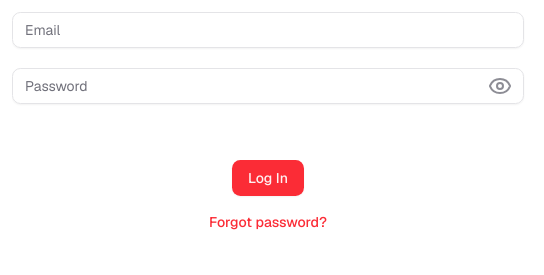
Test: LoginForm (unit) › requires password to include at least 1 digit
In the field with placeholder "Email": (268, 30) [12,12,524,48], type "user@example.com"
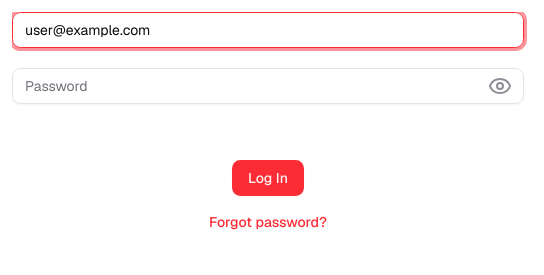
In the password field with placeholder "Password": (268, 86) [12,68,524,104], type "abcdef"
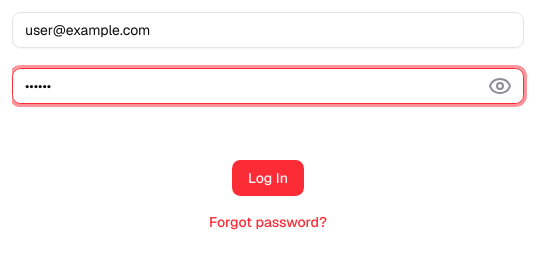
Click the button "Log In": (268, 178) [232,160,304,196]
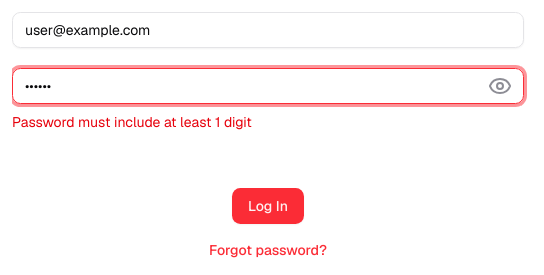
Check: the text "Password must include at least 1 digit" is shown, box [12,113,252,131]
